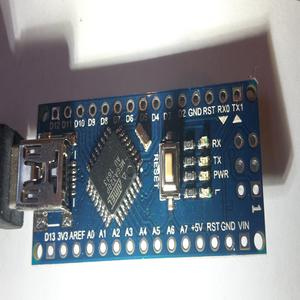duino: (12, 70, 272, 267)
